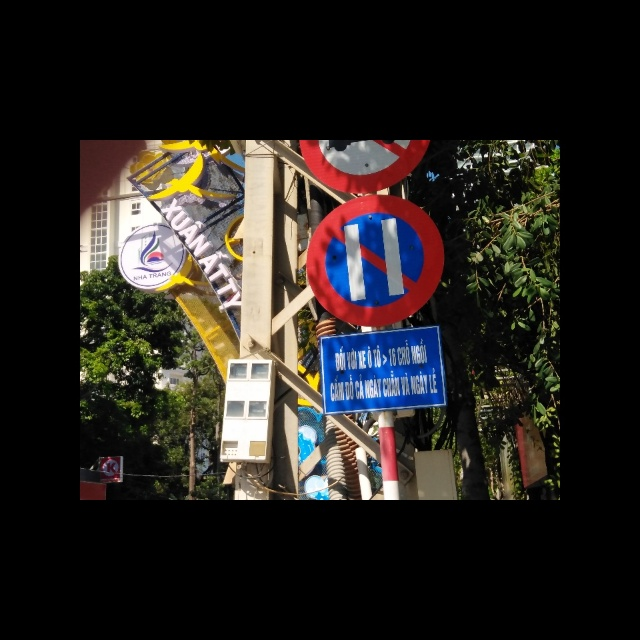Cấm đỗ xe ngày chẵn: (300, 196, 446, 328)
